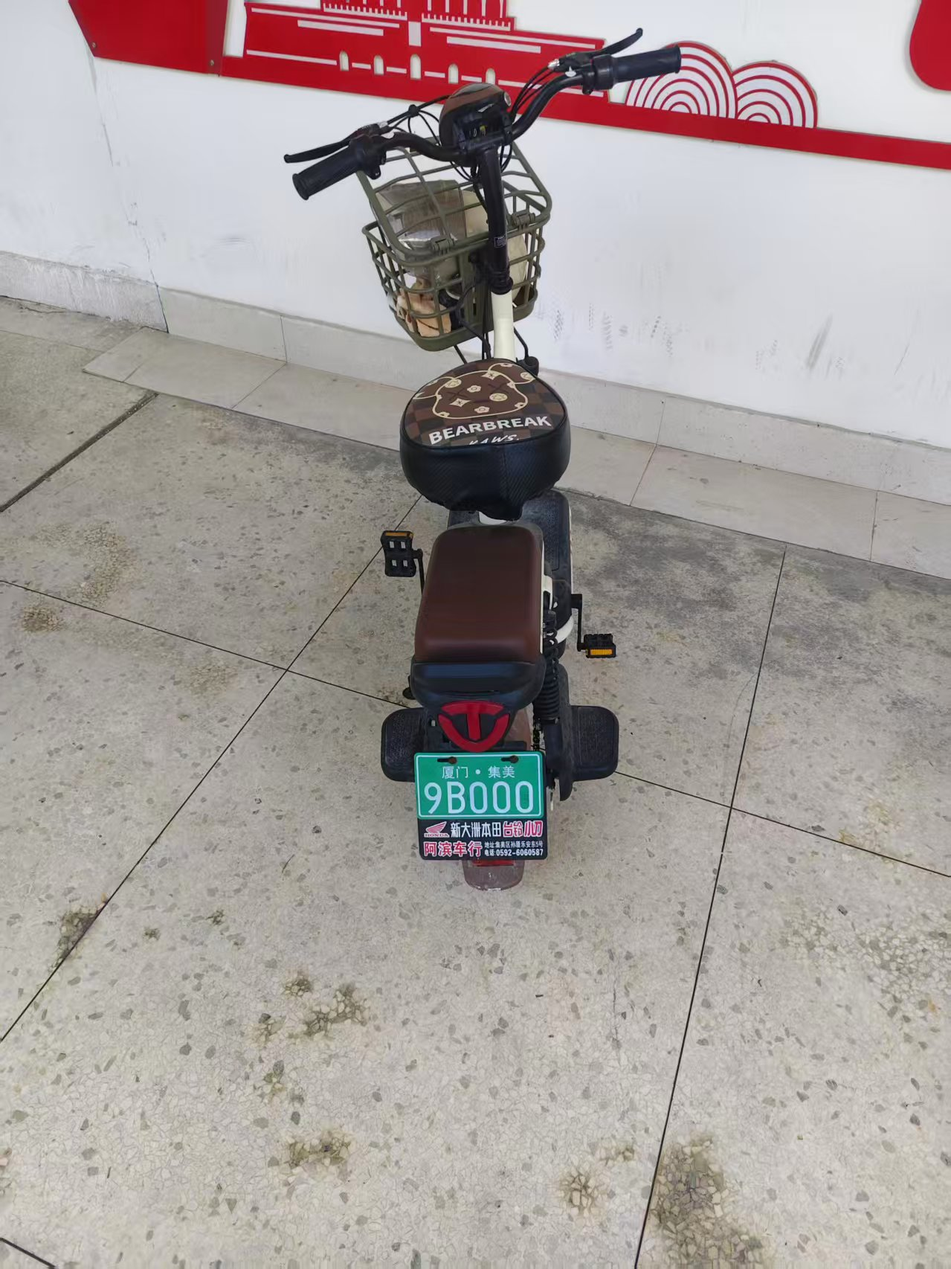plate: (413, 751, 544, 820)
